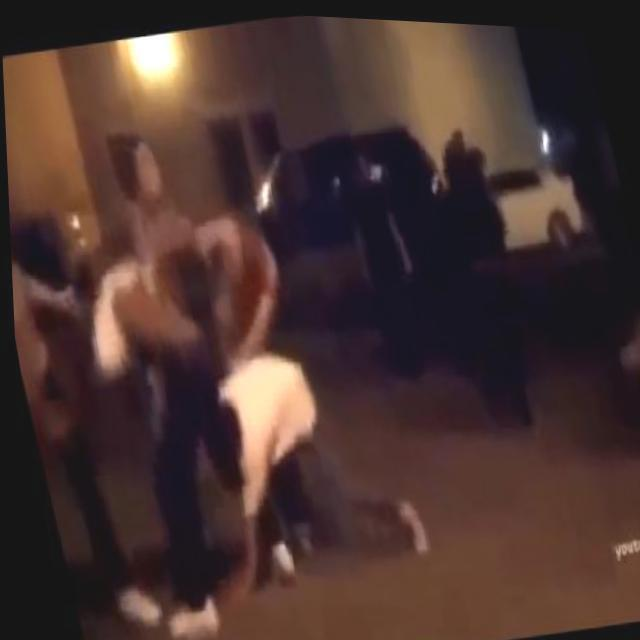fight: (50, 156, 438, 638)
